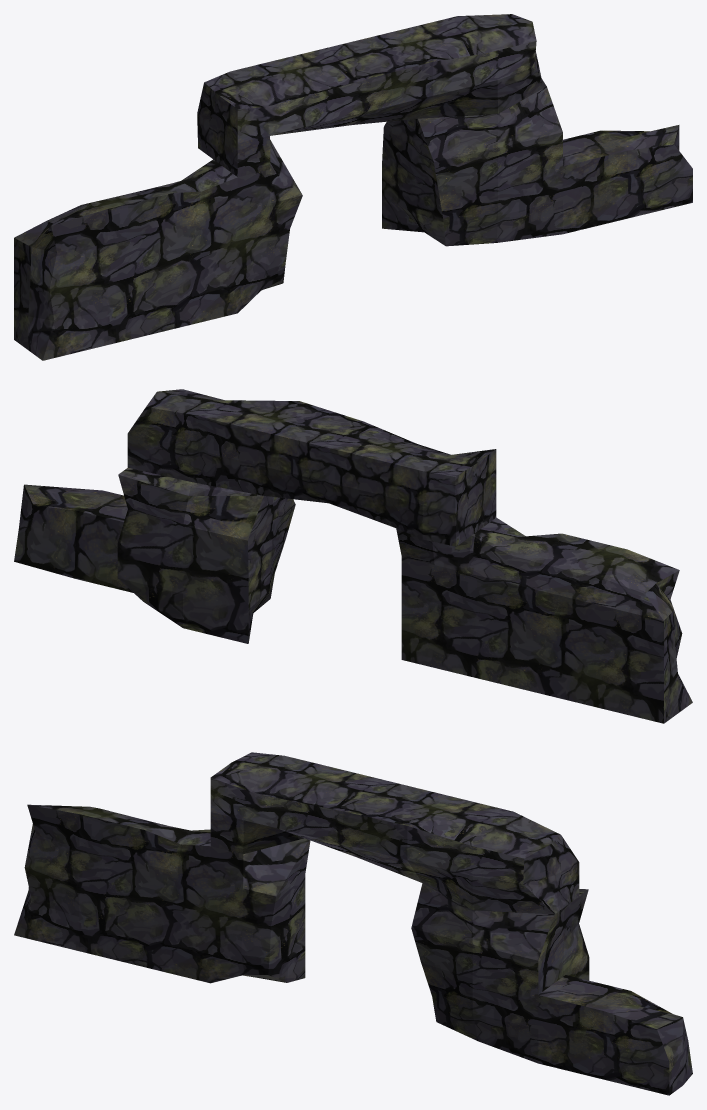
File: Ruins_06.fbx
The picture shows the model from 3 angles, top to bottom: view 1: azimuth 30°, elevation 25°; view 2: azimuth 150°, elevation 25°; view 3: azimuth 330°, elevation 25°; orthographic projection.
Parts seen in each view (by area): view 1: Ruins_06; view 2: Ruins_06; view 3: Ruins_06.
Part boxes in pixels (box(x1,y1,x2,y2)): Ruins_06: box(14, 14, 692, 360); Ruins_06: box(14, 389, 692, 723); Ruins_06: box(14, 752, 692, 1095).
Bounding box in the file's own units: 1.25 × 0.3757 × 0.169.
1 material, 1 textured.
